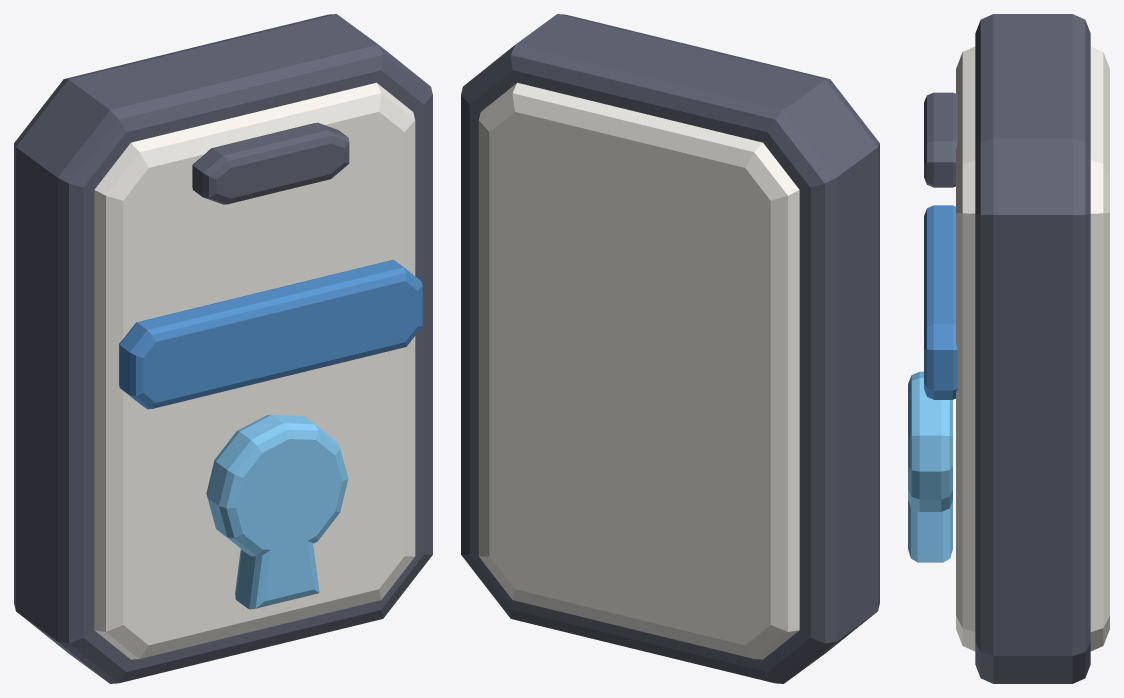
The model's file is game-ui-icon-library-key-card-c5d7e8de__18999.glb.
The picture shows the model from 3 angles, left to right: view 1: azimuth 30°, elevation 25°; view 2: azimuth 150°, elevation 25°; view 3: azimuth 270°, elevation 25°; orthographic projection. The views are drawn at different scales.
Visible parts, largest first — view 1: key-card; view 2: key-card; view 3: key-card.
Boxes of the visible parts, bbox=[...] form: key-card: bbox=[14, 14, 432, 683]; key-card: bbox=[461, 14, 879, 683]; key-card: bbox=[908, 14, 1109, 683].
Bounding box in the file's own units: 0.64 × 0.94 × 0.315.
